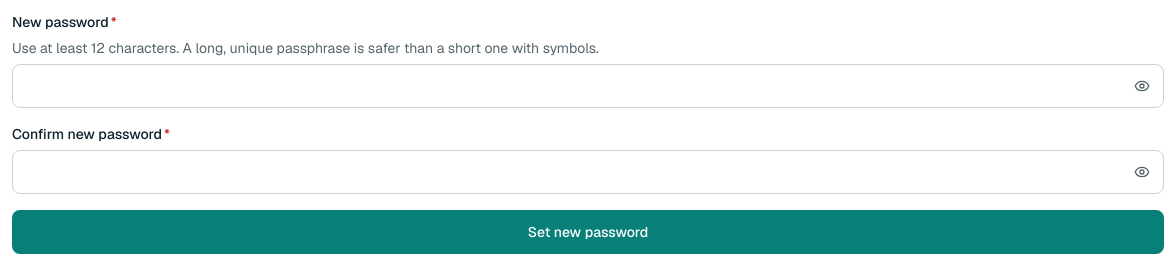
it: ResetPasswordForm › shows an accessible pending state while submitting
Type "a brand new password" into the password field labelled "New password".
click(588, 86); type("a brand new password")  # box 12,64 -> 1164,108
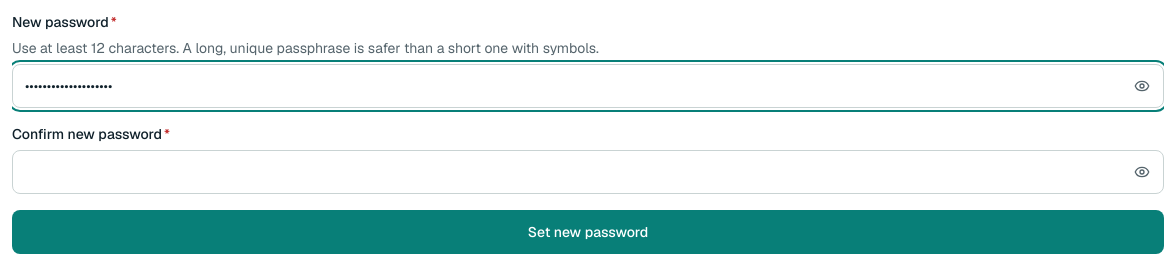
Type "a brand new password" into the password field labelled "Confirm new password".
click(588, 172); type("a brand new password")  # box 12,150 -> 1164,194
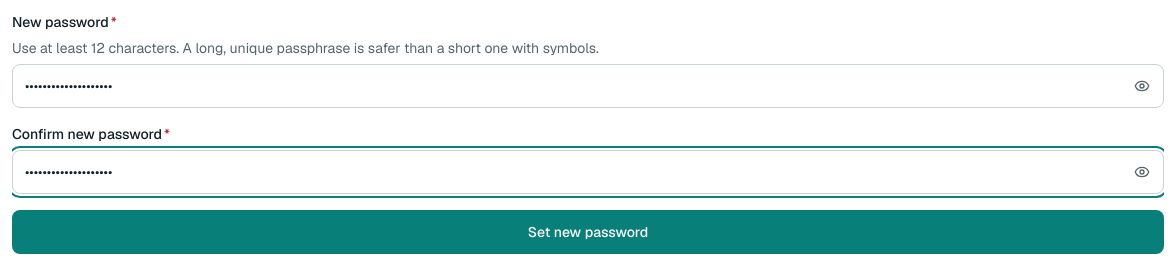
Click the button "Set new password".
click(588, 232)  # box 12,210 -> 1164,254
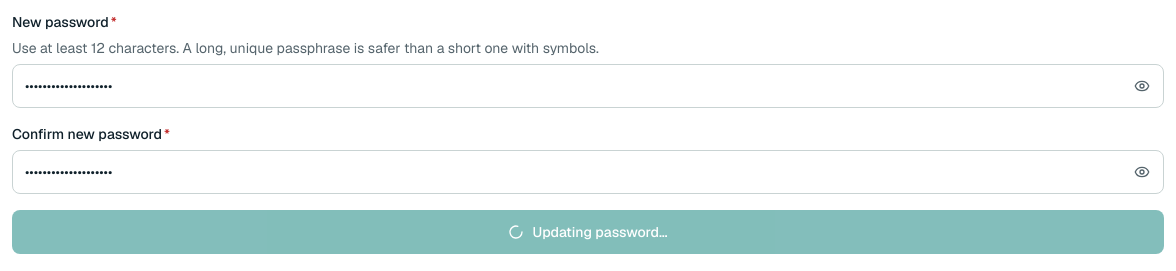
Now the button "Updating password…" is disabled, box 12,210 -> 1164,254
